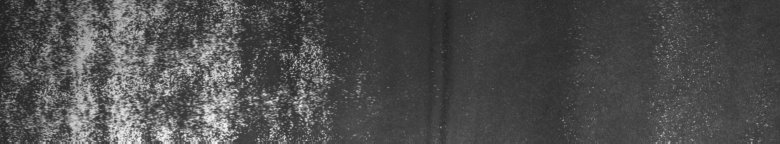kb: (4, 4, 376, 136)
